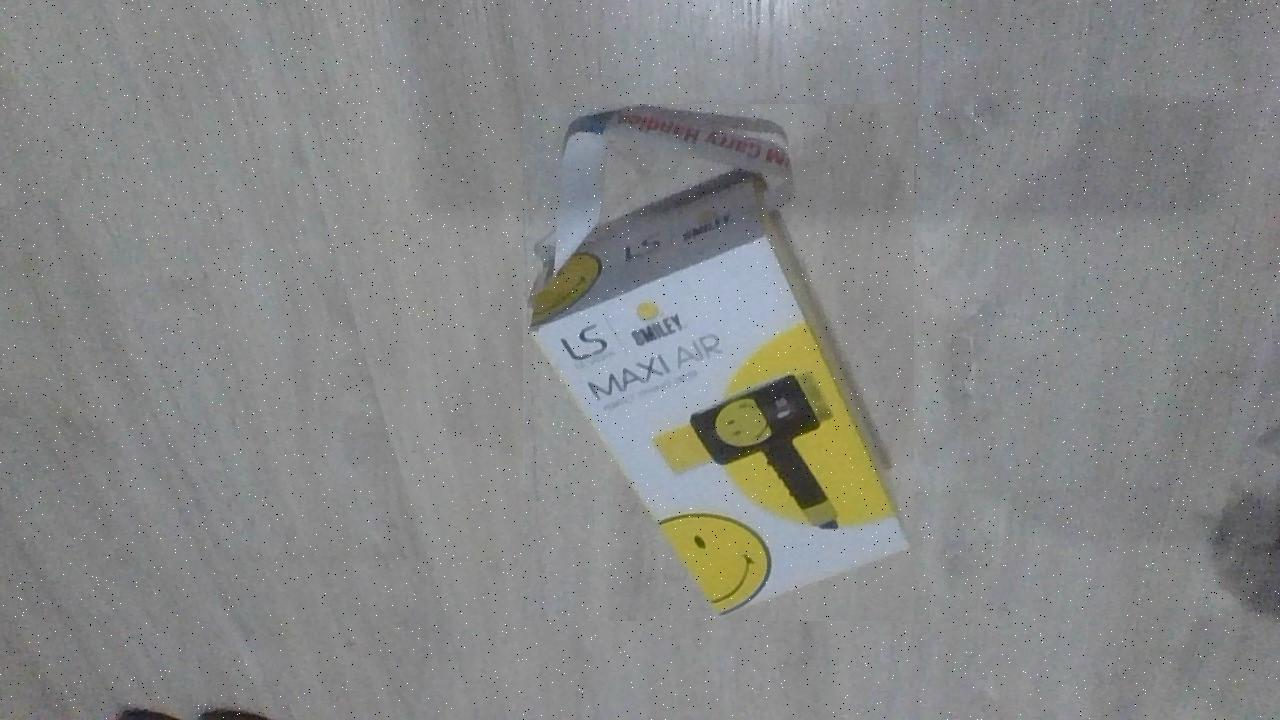Dryer: (523, 104, 914, 621)
